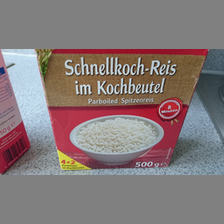rice: (34, 49, 209, 171)
